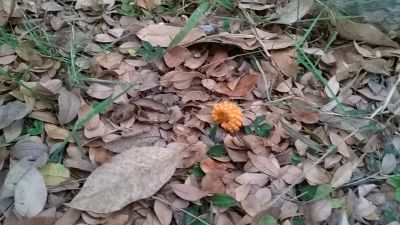eggs: (211, 99, 244, 133)
